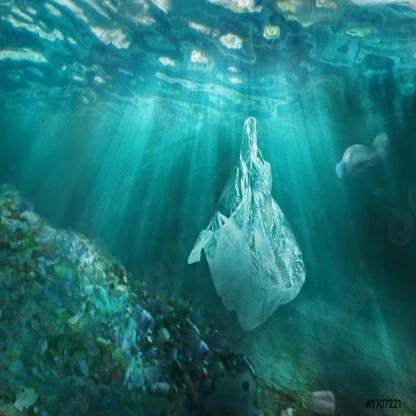pbag: (187, 114, 313, 334)
